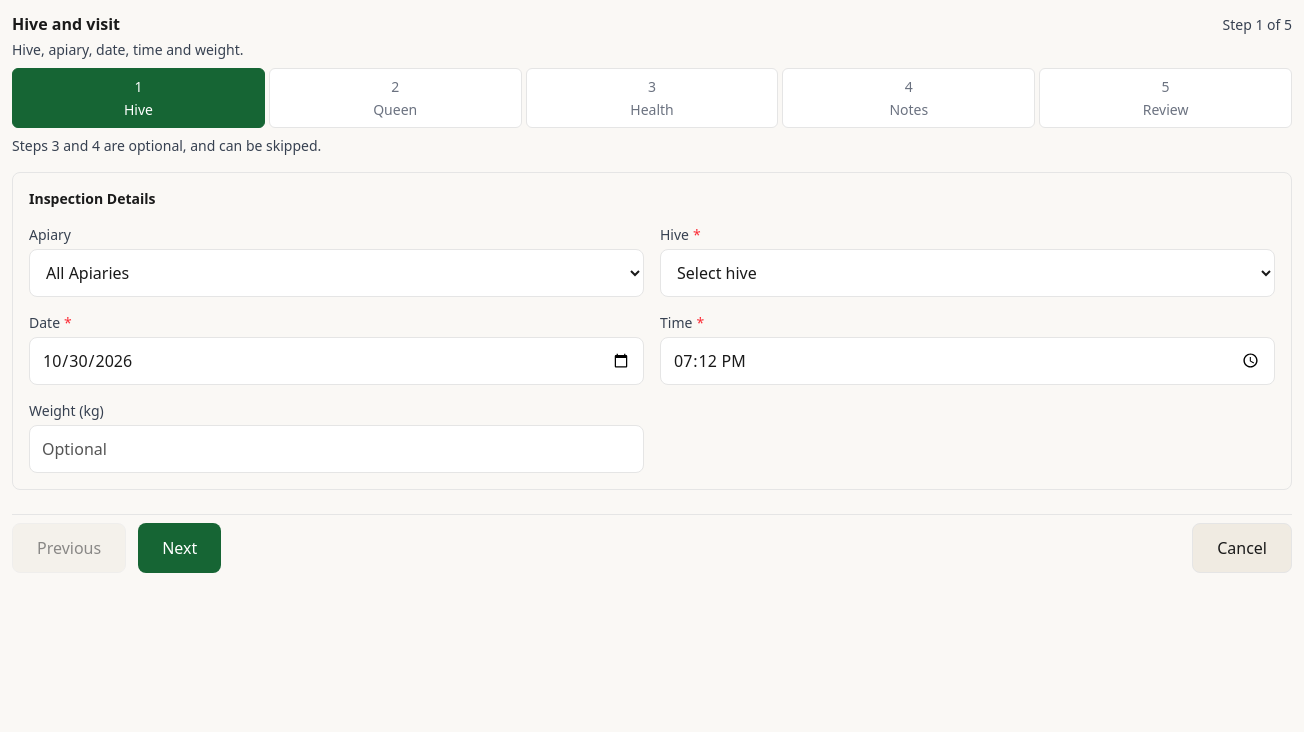
Test: previously-fixed mobile layouts survive the step grouping › names the colony strength group on its own step
The width and height of the screenshot is (1304, 732).
Select "H1" in the dropdown labelled "Hive*" at coordinates (968, 272), box [660,248,1275,296]
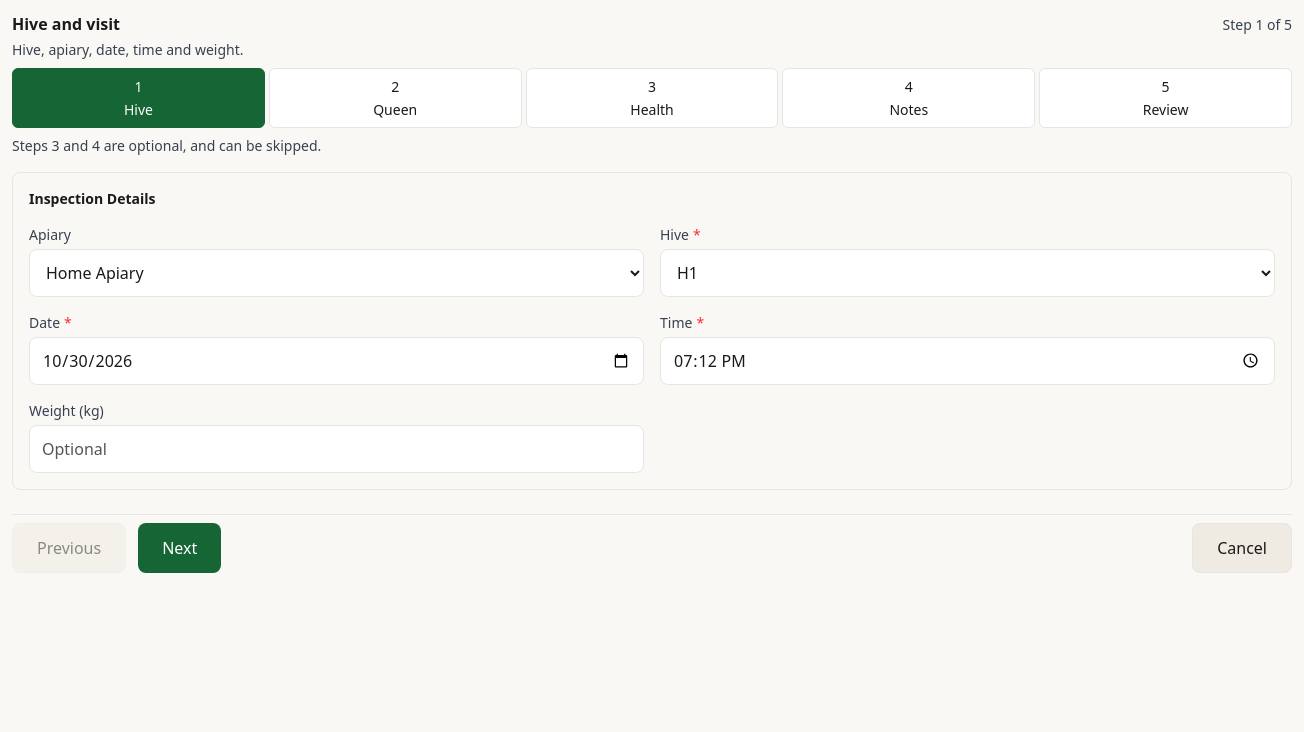
Click the button "Next".
click(180, 548)  # box [138,522,221,572]
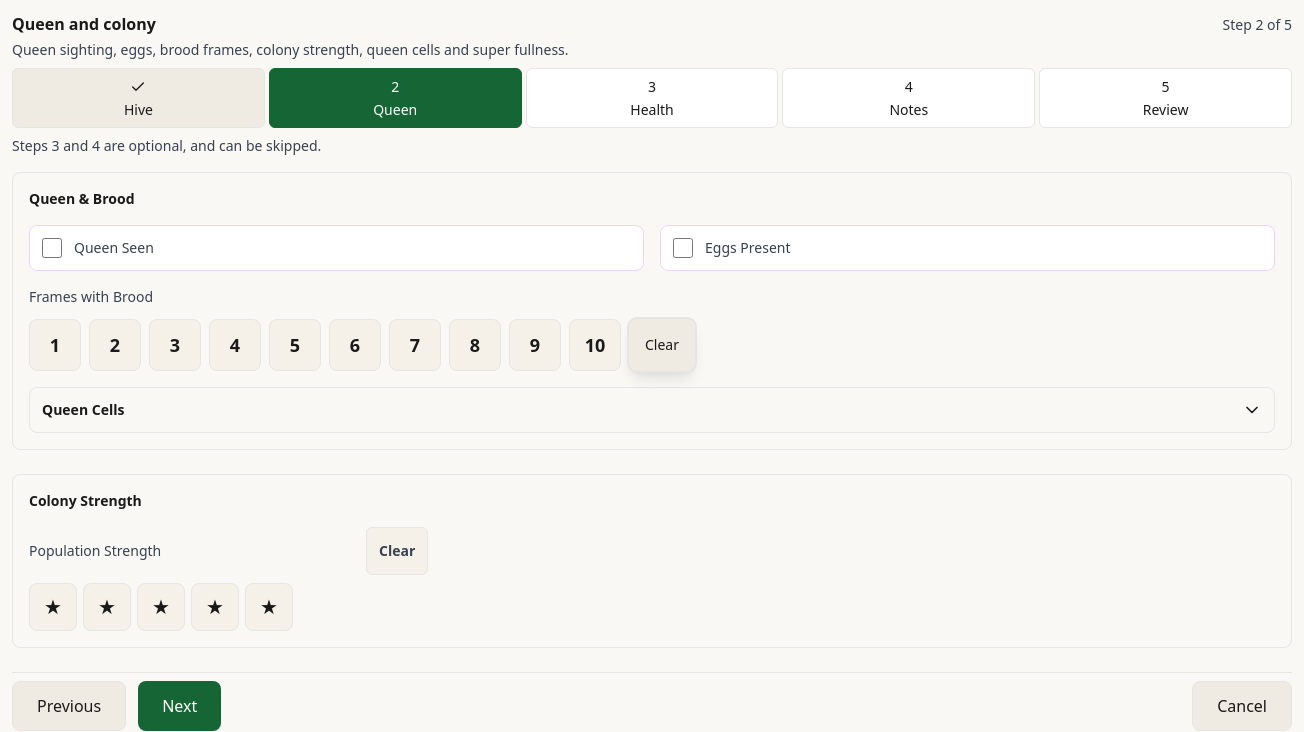
Check: the element "Population Strength" is shown, box [29,526,428,630]
